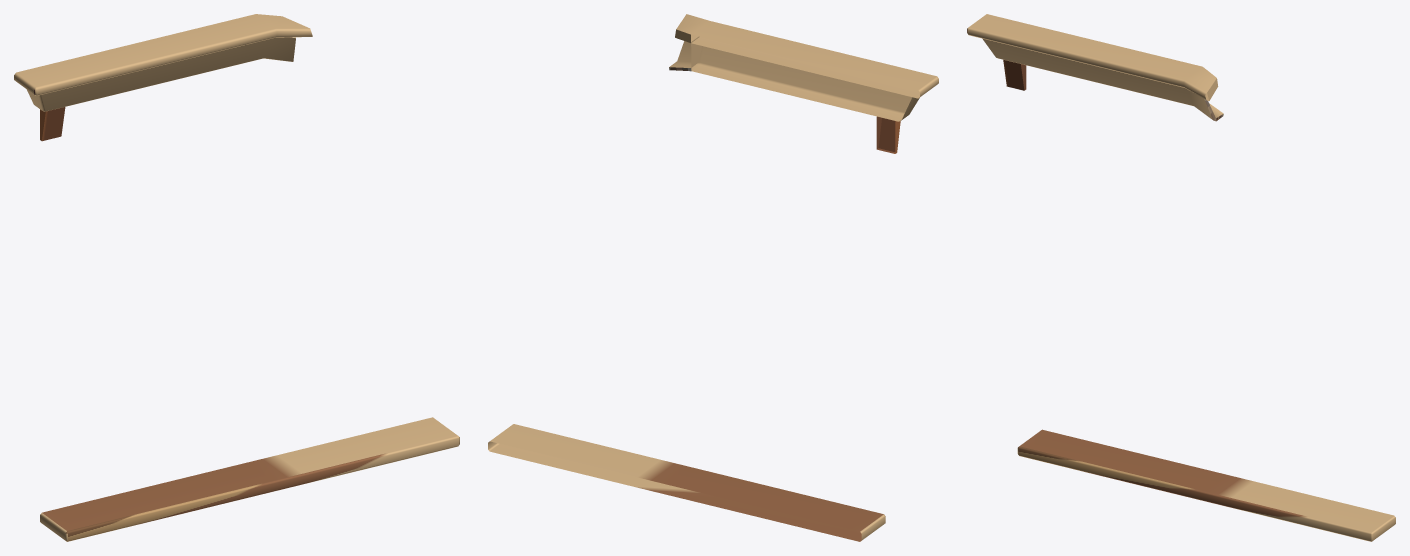
File: DBK_WinBig_Trim_B_90.fbx
3 renders of one model, left to right at view 1: azimuth 30°, elevation 25°; view 2: azimuth 150°, elevation 25°; view 3: azimuth 330°, elevation 25°, orthographic. The views are drawn at different scales.
Visible parts, largest first — view 1: DBK_WinBig_Trim_B_90; view 2: DBK_WinBig_Trim_B_90; view 3: DBK_WinBig_Trim_B_90.
Part boxes in pixels (box(x1,y1,x2,y2)): DBK_WinBig_Trim_B_90: box(14, 14, 459, 541); DBK_WinBig_Trim_B_90: box(488, 14, 938, 541); DBK_WinBig_Trim_B_90: box(967, 14, 1395, 541).
Bounding box in the file's own units: 226 × 234 × 39.6.
